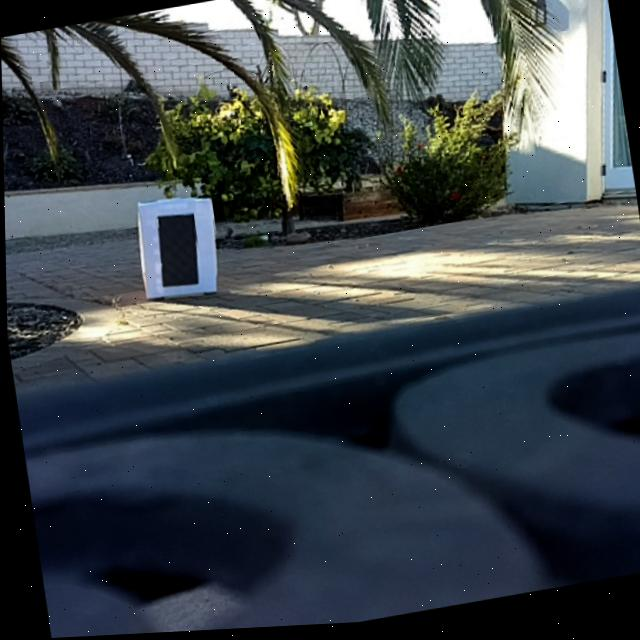led: (152, 211, 201, 290)
